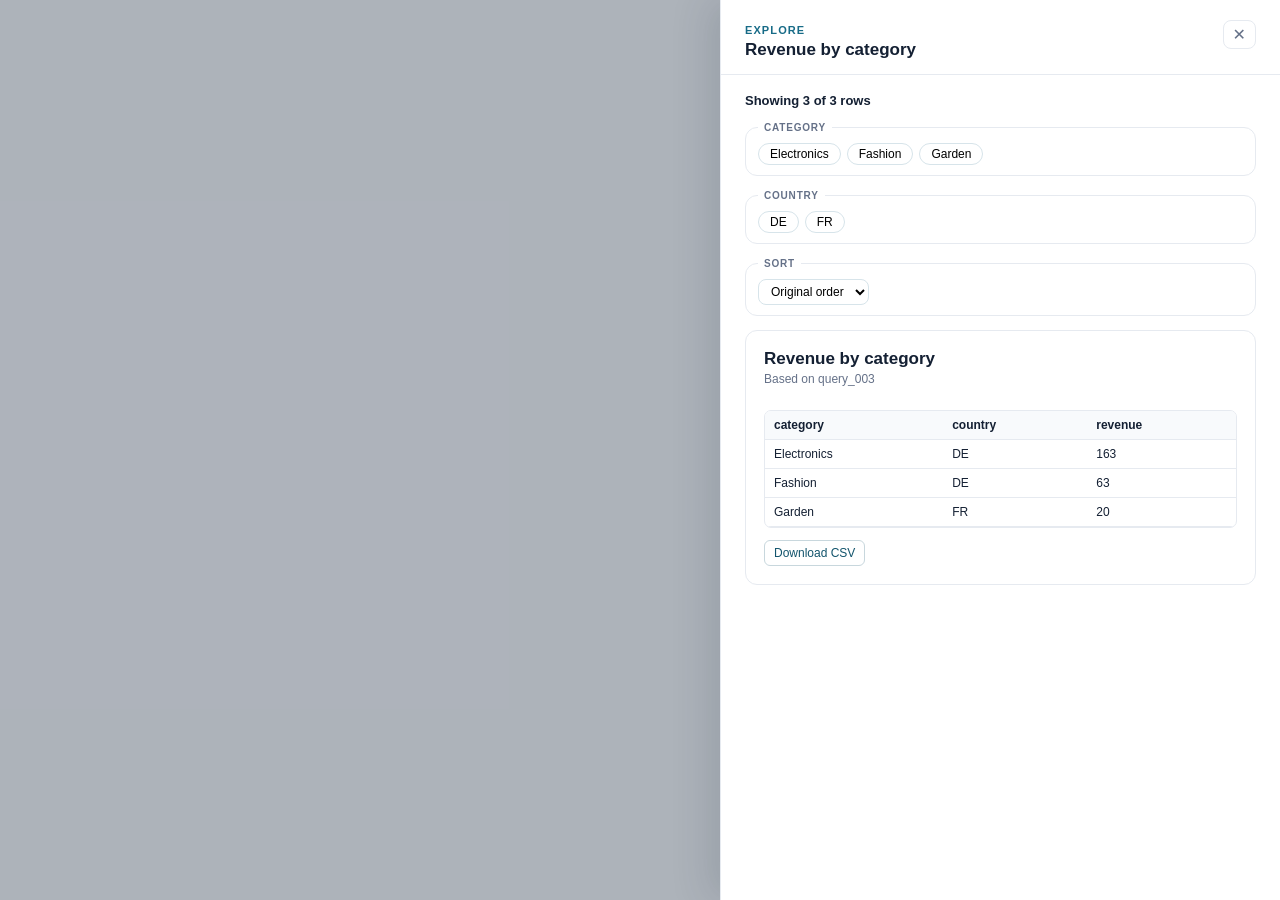
DisplayPanel › narrows the rows shown and reports how many remain
Expected: the text "Showing 3 of 3 rows" is shown, [745, 93, 871, 108]
Click the button "FR" at (825, 222), box [805, 211, 845, 233]
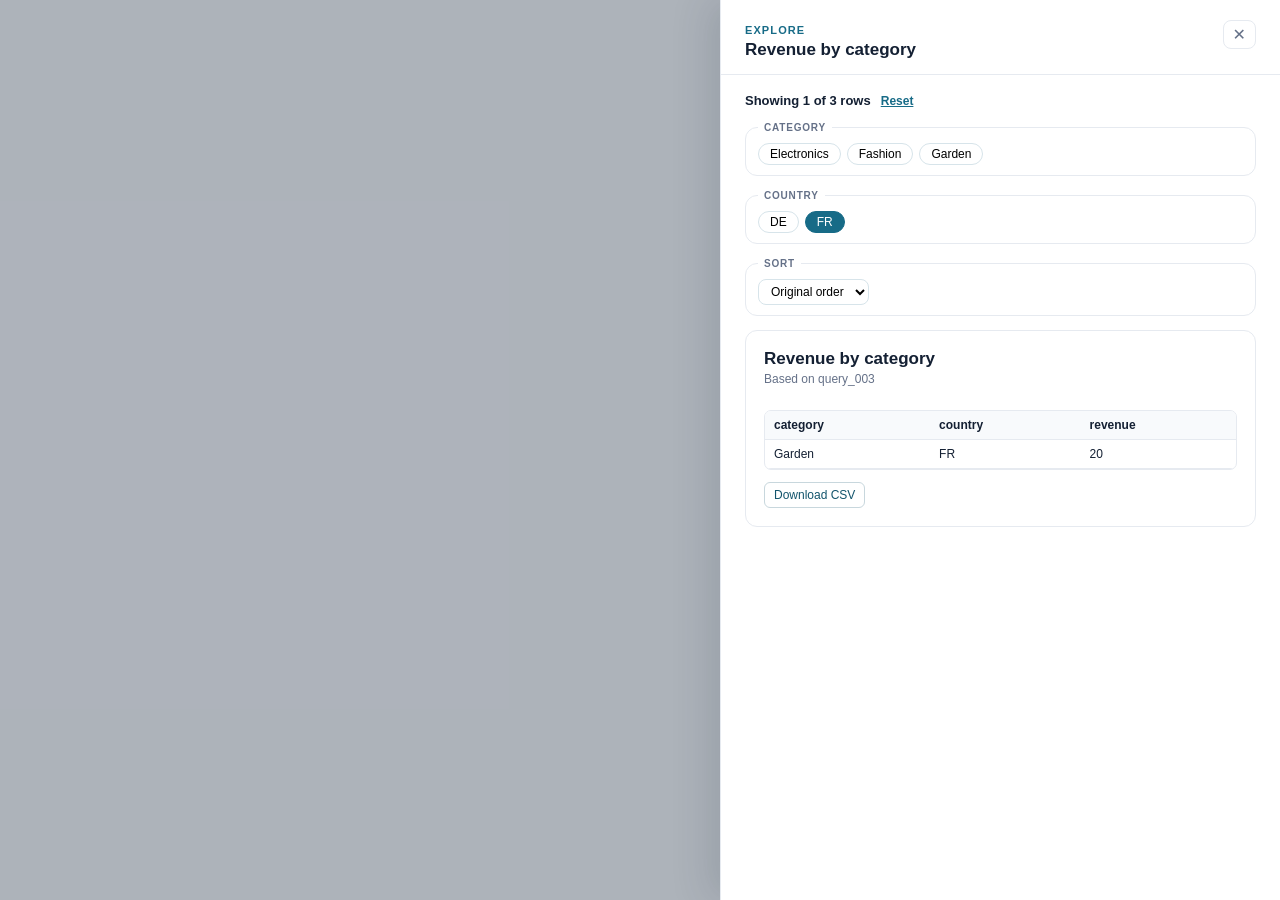
Expected: the button "Electronics" is shown, [758, 143, 841, 165]
Result: the text "Showing 1 of 3 rows" is shown at [745, 93, 913, 108]
Result: the text "Garden" is shown at [765, 440, 930, 468]
